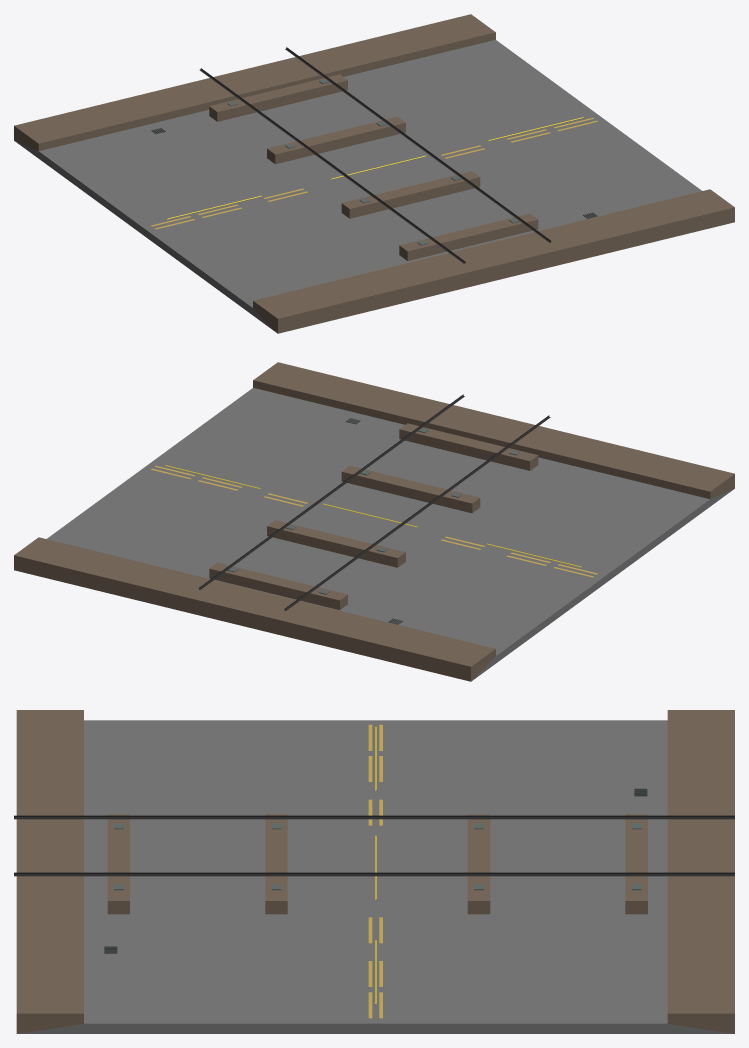
The model's file is XBLD070.glb.
3 renders of one model, top to bottom at view 1: azimuth 30°, elevation 25°; view 2: azimuth 150°, elevation 25°; view 3: azimuth 270°, elevation 25°, orthographic. The views are drawn at different scales.
Visible parts, largest first — view 1: RD29 | archived geometry, RL45 | archived geometry, RL45 | line, light and sprite surfaces, Fitted street and landscape details; view 2: RD29 | archived geometry, RL45 | archived geometry, RL45 | line, light and sprite surfaces, Fitted street and landscape details; view 3: RD29 | archived geometry, RL45 | archived geometry, RL45 | line, light and sprite surfaces, Fitted street and landscape details, Fitted street and landscape details.001.
Part boxes in pixels (bbox=[...]): RD29 | archived geometry: bbox=[14, 14, 734, 333]; RL45 | archived geometry: bbox=[209, 74, 538, 260]; RL45 | line, light and sprite surfaces: bbox=[199, 47, 551, 263]; Fitted street and landscape details: bbox=[151, 118, 597, 229]; RD29 | archived geometry: bbox=[14, 362, 734, 681]; RL45 | archived geometry: bbox=[209, 423, 538, 610]; RL45 | line, light and sprite surfaces: bbox=[198, 394, 550, 610]; Fitted street and landscape details: bbox=[151, 418, 597, 624]; RD29 | archived geometry: bbox=[16, 710, 734, 1033]; RL45 | archived geometry: bbox=[107, 814, 647, 914]; RL45 | line, light and sprite surfaces: bbox=[14, 815, 734, 876]; Fitted street and landscape details: bbox=[104, 724, 647, 1018]; Fitted street and landscape details.001: bbox=[114, 823, 641, 890].
Size of the model in its own units: 16 by 0.9267 by 16.06.
